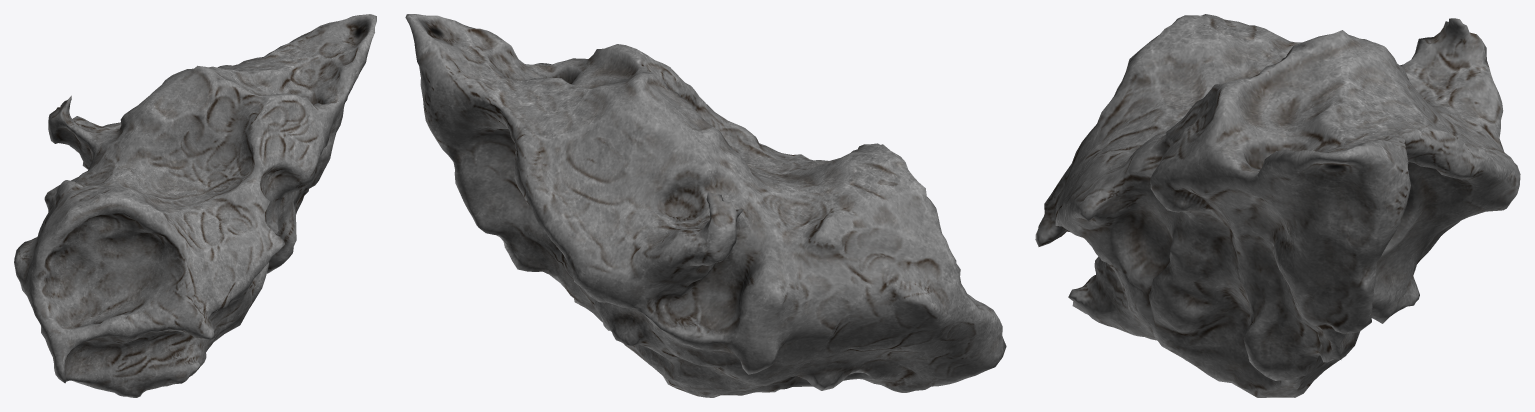
The model's file is meteor3.glb.
3 views of the same model, side by side, from view 1: azimuth 30°, elevation 25°; view 2: azimuth 150°, elevation 25°; view 3: azimuth 270°, elevation 25° (orthographic). The views are drawn at different scales.
Visible parts, largest first — view 1: Object_2; view 2: Object_2; view 3: Object_2.
Boxes of the visible parts, x1,y1,x2,y2 form: Object_2: (14,14,376,397); Object_2: (405,14,1006,397); Object_2: (1035,14,1520,397).
Bounding box in the file's own units: 291 × 185 × 204.
1 material, 1 textured.
